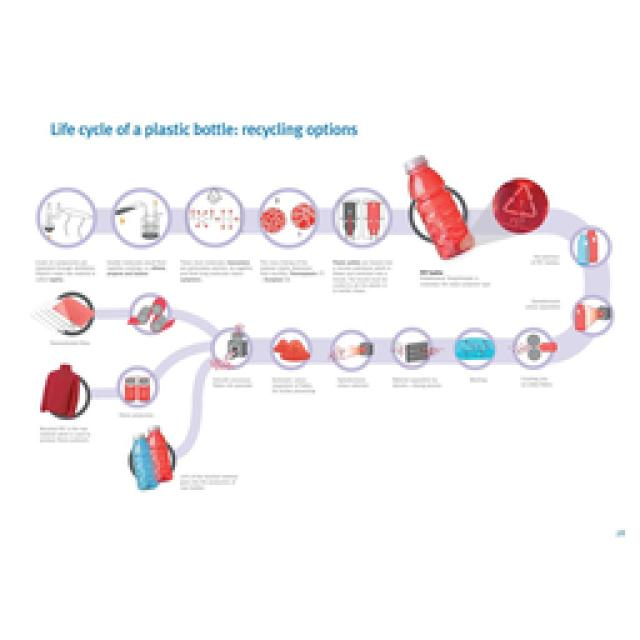plastic: (402, 154, 475, 260), (133, 424, 172, 490), (578, 230, 598, 265)
